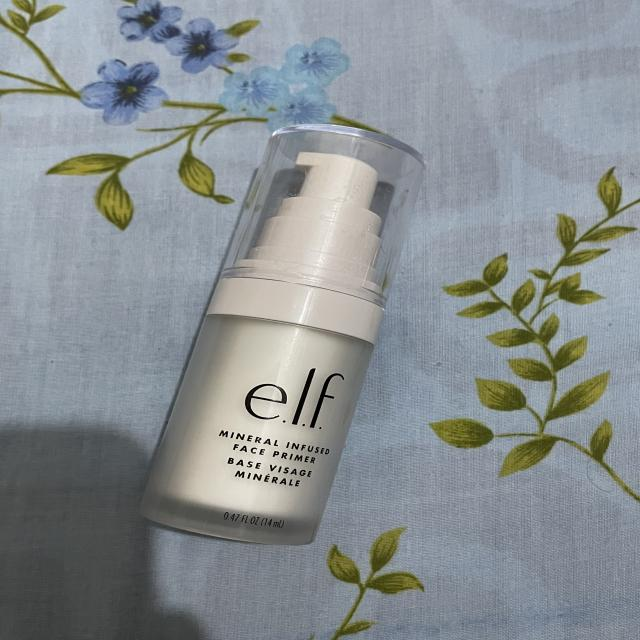primer: (105, 101, 445, 558)
